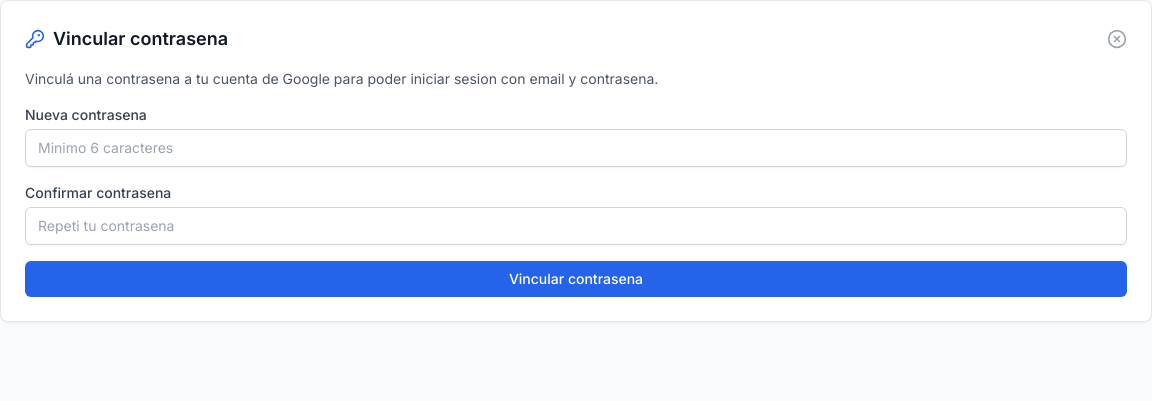
LinkPasswordForm › shows validation error when passwords do not match
Type "123456" into the password field with placeholder "Minimo 6 caracteres". click: (576, 148)
box: [25,129,1127,167]
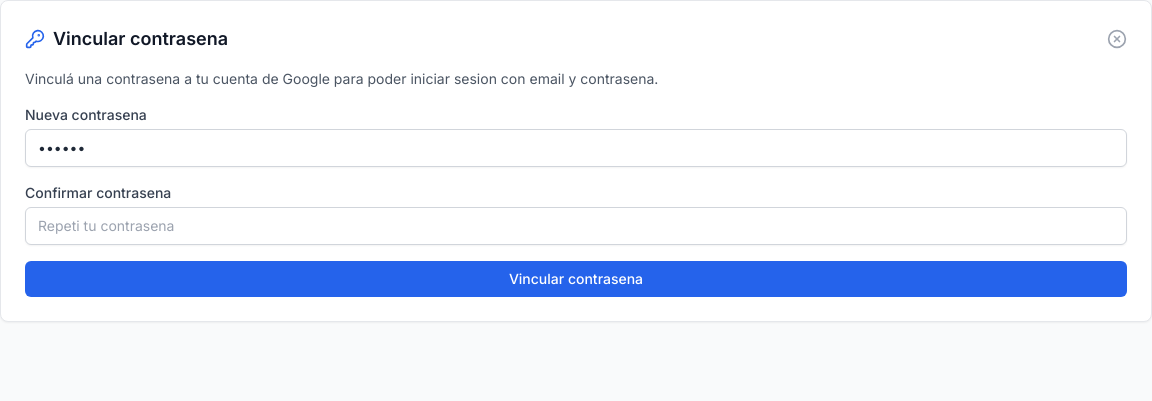
Type "654321" into the password field with placeholder "Repeti tu contrasena". click: (576, 226)
box: [25,207,1127,245]
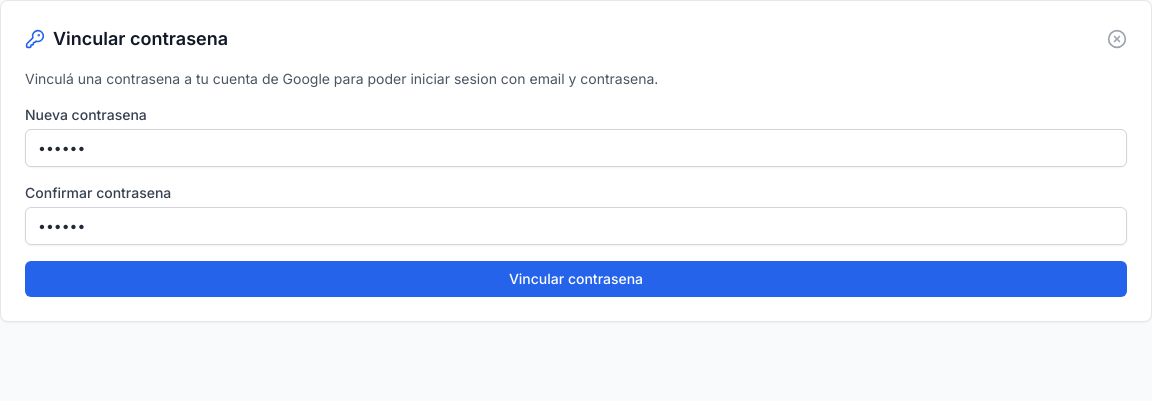
Click the button "Vincular contrasena". click: (576, 279)
box: [25,261,1127,297]
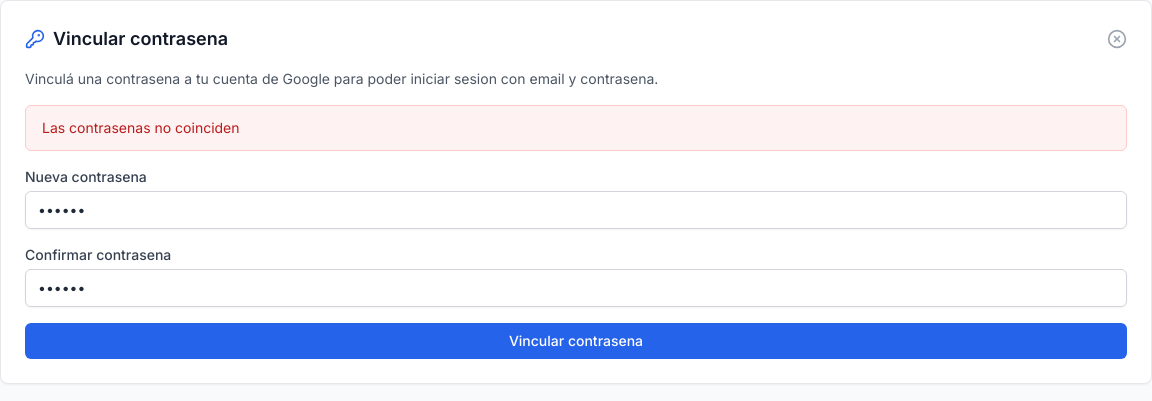
Result: the text "Las contrasenas no coinciden" is shown at [25,105,1127,151]
